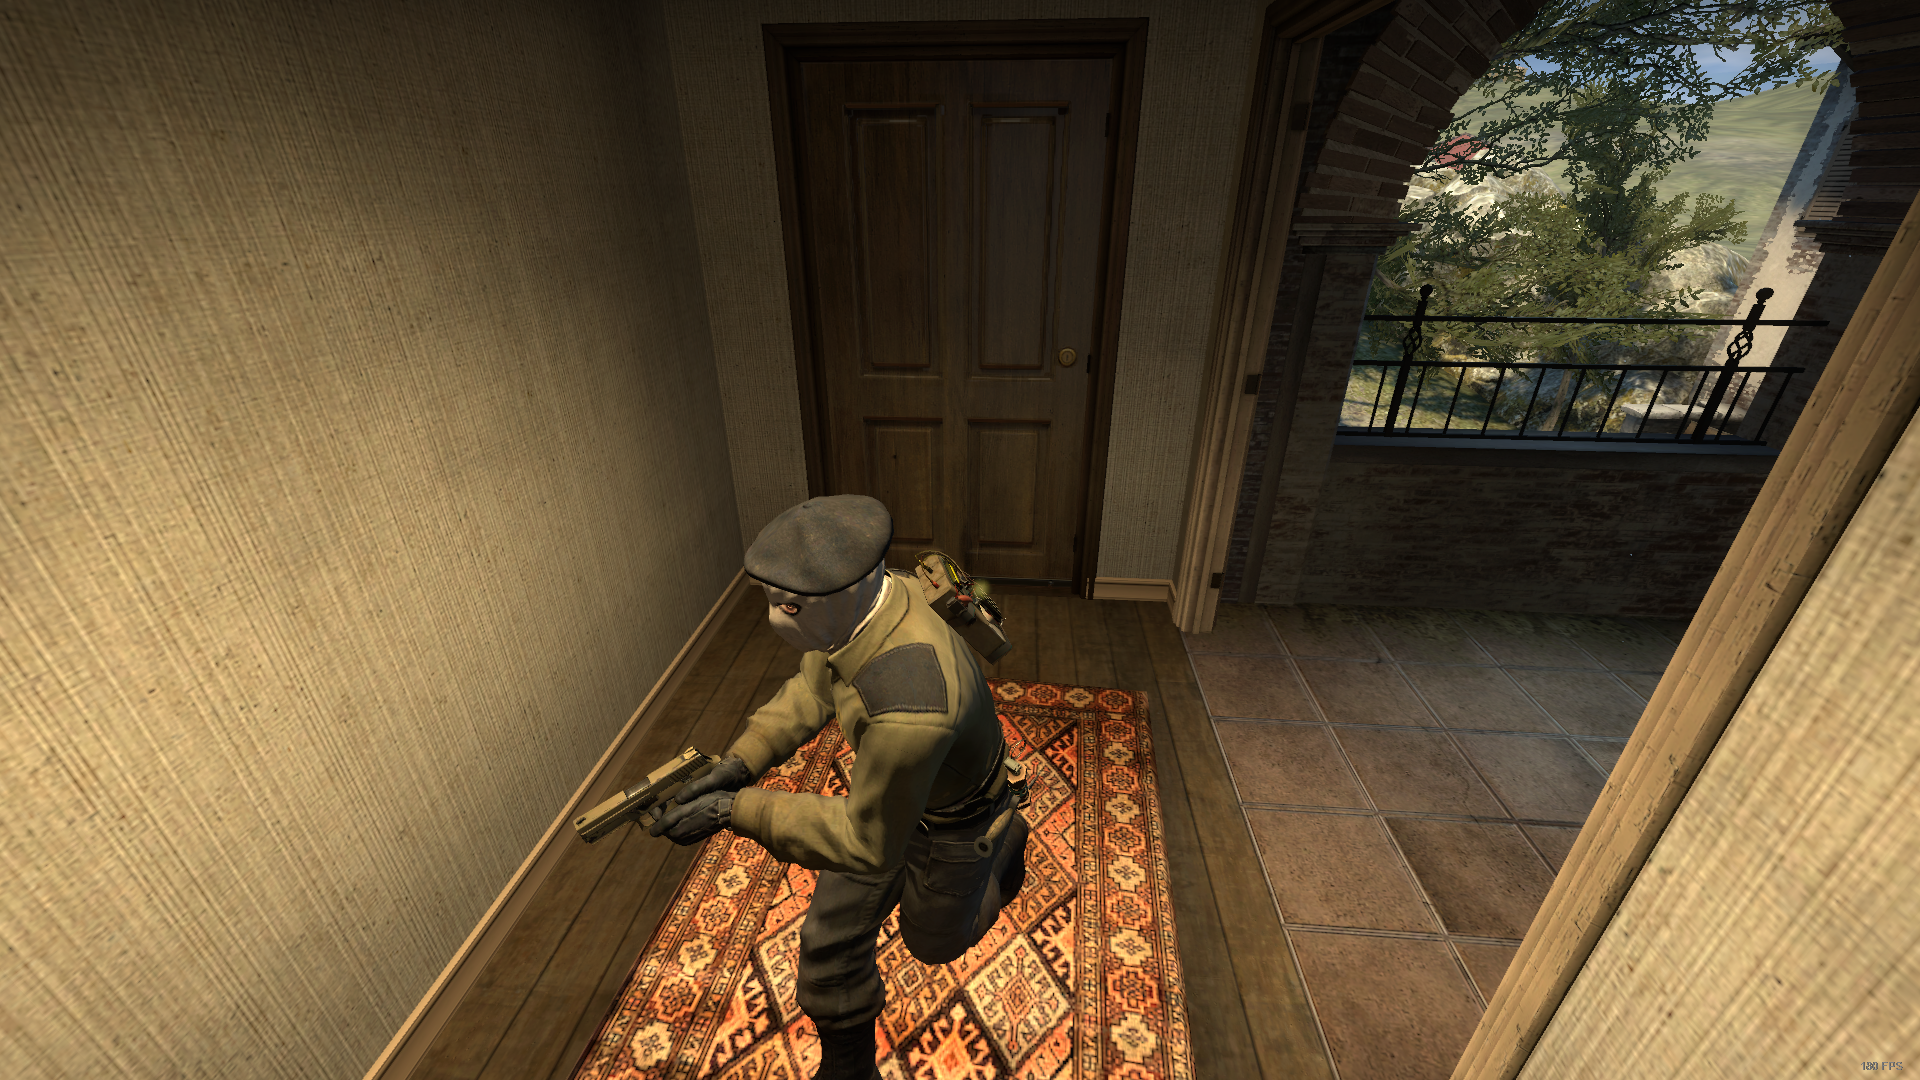t: (647, 495, 1029, 1080)
